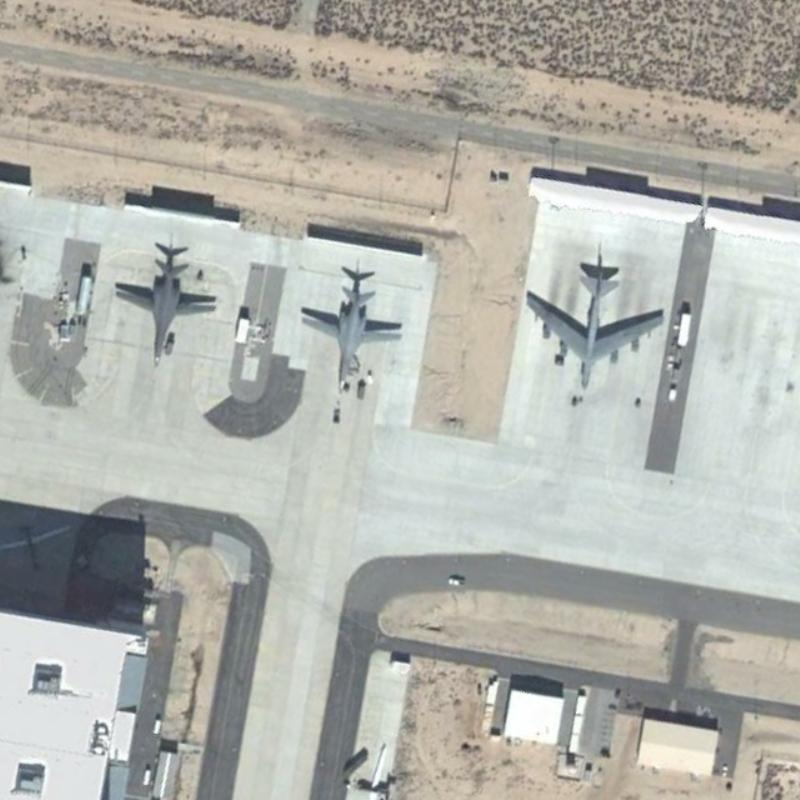A10: (106, 249, 221, 371), (294, 281, 408, 397)
A8: (516, 260, 671, 396)
